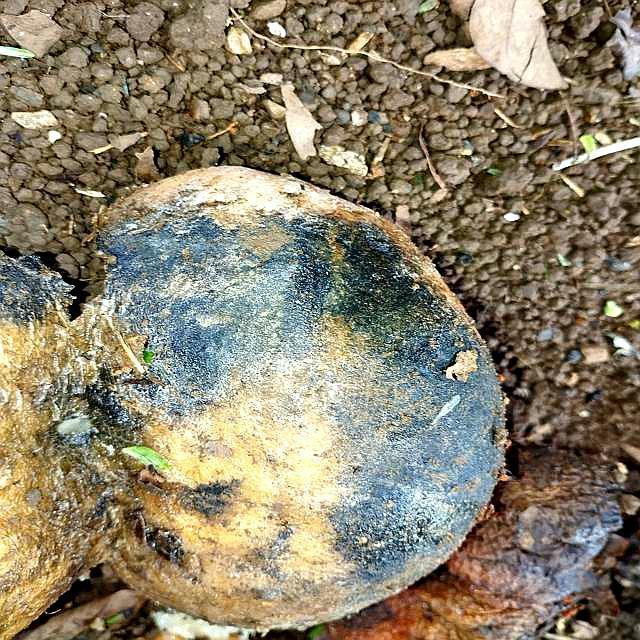Biodegradable: (1, 169, 521, 640)
